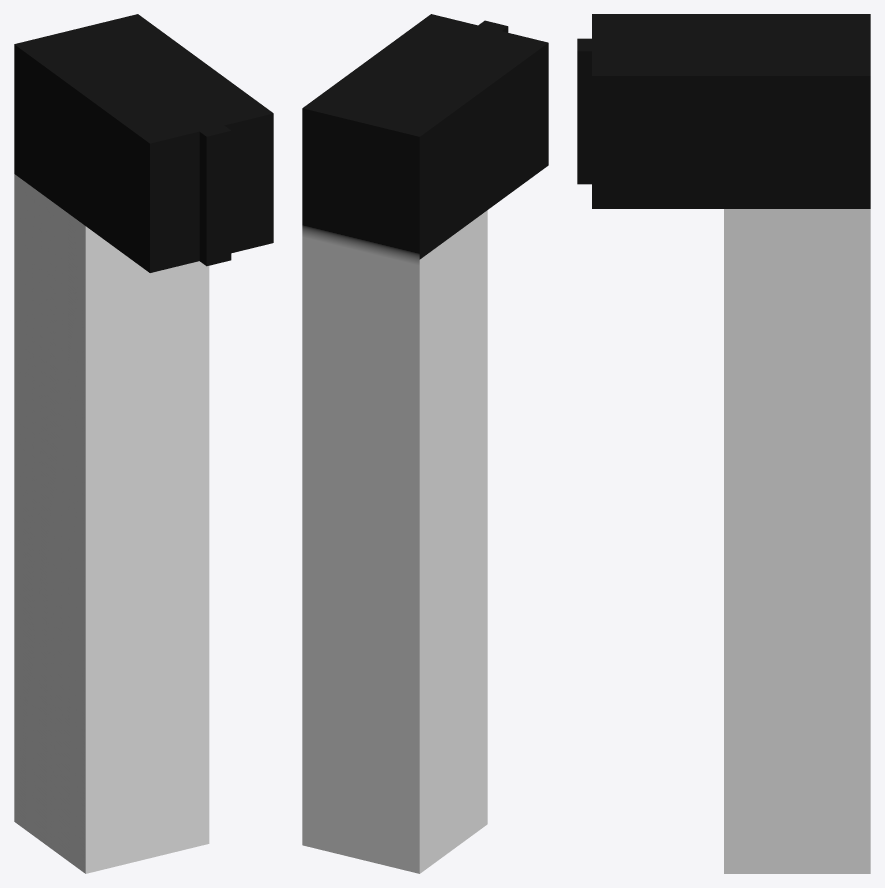
Rendered from CharacterTestForMovement.fbx.
The picture shows the model from 3 angles, left to right: view 1: azimuth 30°, elevation 25°; view 2: azimuth 150°, elevation 25°; view 3: azimuth 270°, elevation 25°; orthographic projection. The views are drawn at different scales.
Parts seen in each view (by area): view 1: Matrix; view 2: Matrix; view 3: Matrix.
Boxes of the visible parts, x1,y1,x2,y2 form: Matrix: [14, 14, 273, 873]; Matrix: [302, 14, 548, 873]; Matrix: [577, 14, 870, 873].
Size of the model in its own units: 10 by 60 by 20.
